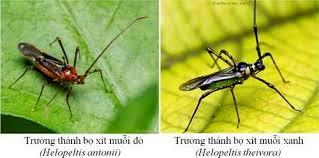Helopeltis-insect: (176, 54, 274, 97), (16, 39, 92, 94)
